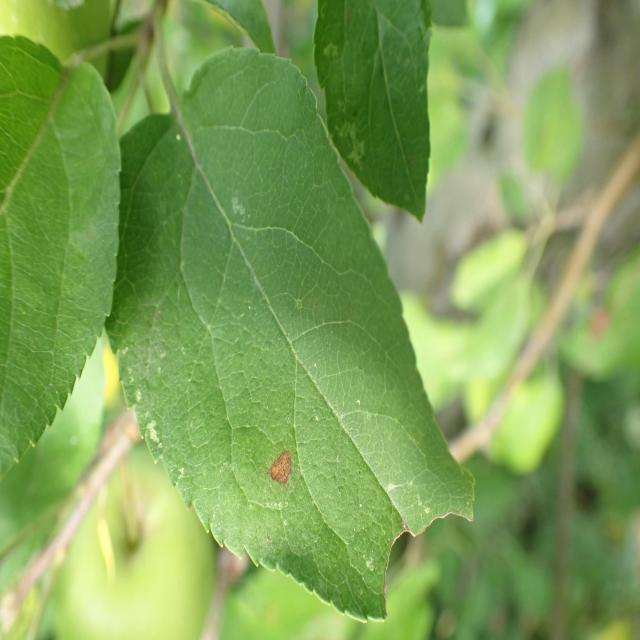frog-eye-leaf-spot: (103, 45, 477, 623)
